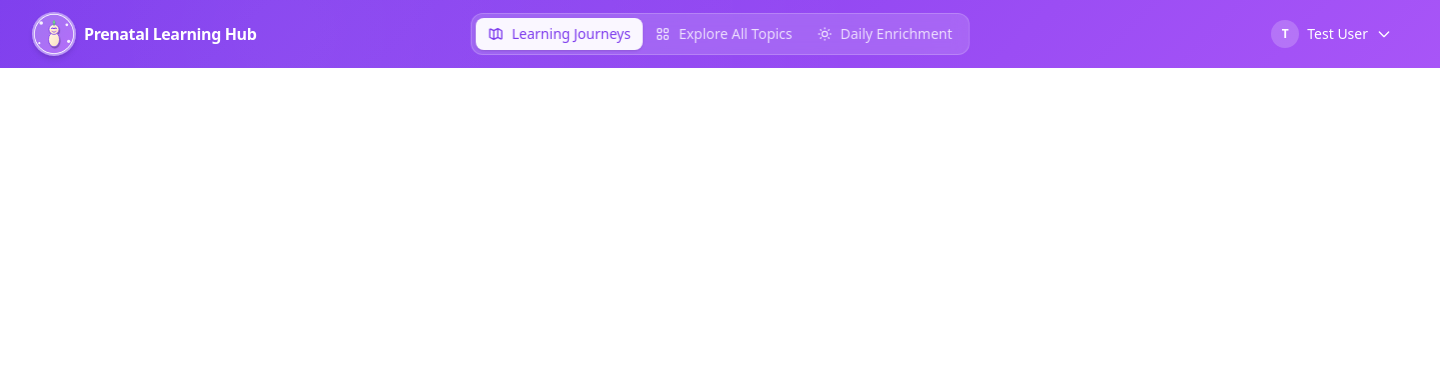
Test: Header › Due date in user dropdown › should show "Set due date" option when no due date is set (Requirements: 17.4)
Note: Open user menu
What coordinates should you click on to do the following:
click the button with aria-label "User menu"
I would click on:
 (1332, 34)
Its box is [1255,12,1408,56].
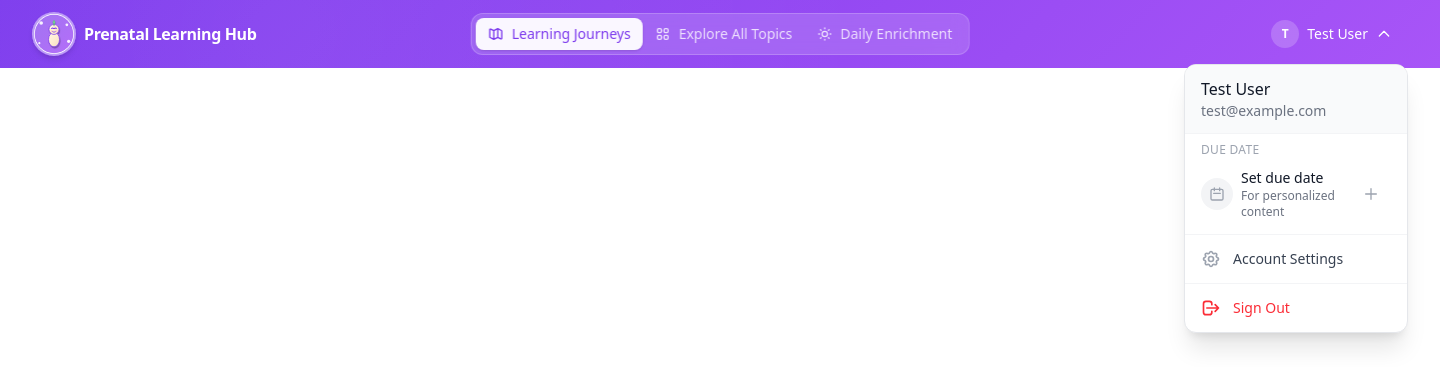
Now the text "Set due date" is shown, box [1241,168,1324,187]
